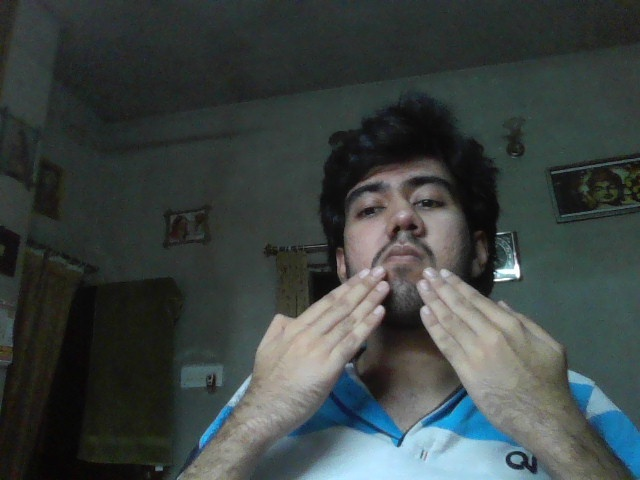ThankYou: (251, 265, 566, 423)
